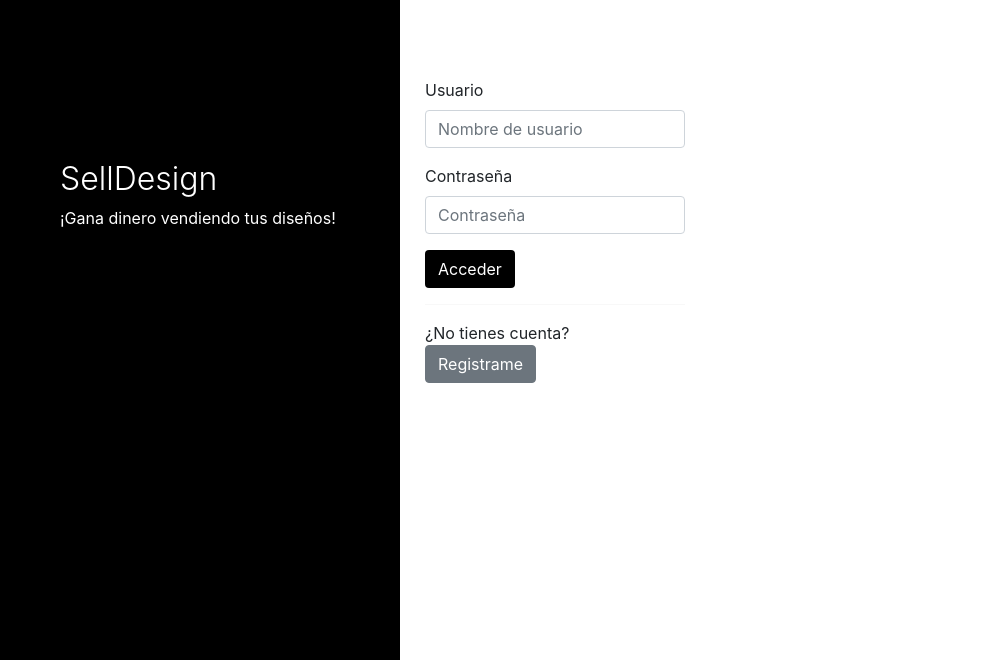
Scenario: LogginComponent › Deja Acceder a Registro
Click the button "Registrame".
click(481, 364)  # box [425,345,536,383]
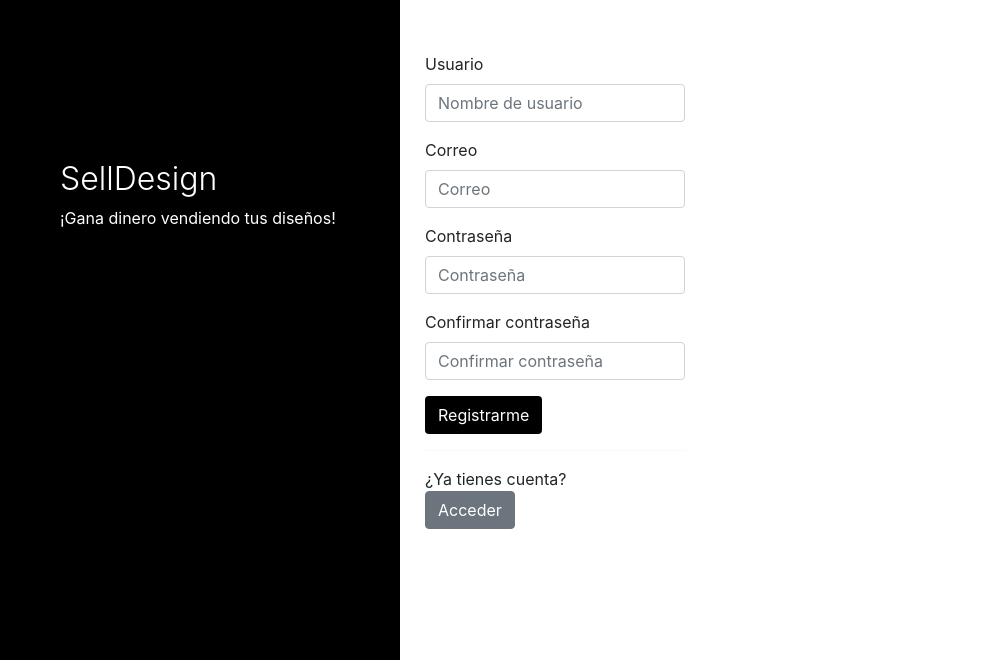
Expected: the text "Confirmar contraseña" is shown, [425,310,590,334]
